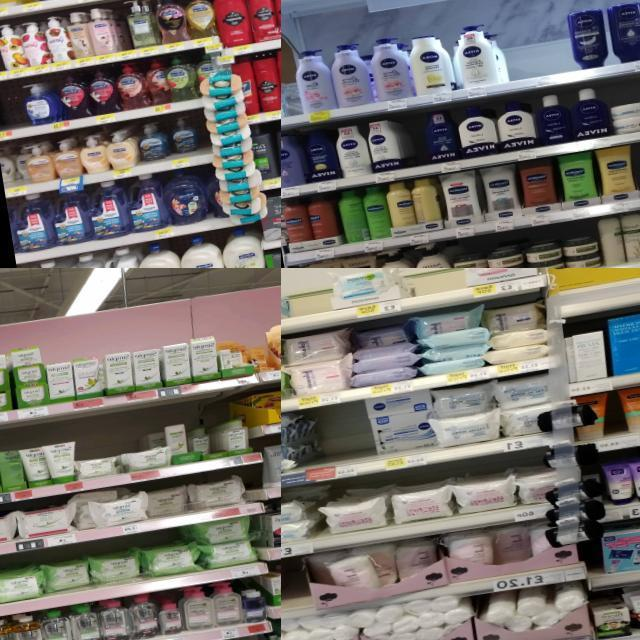empty: (502, 17, 575, 92), (311, 403, 374, 480), (411, 268, 466, 309), (289, 292, 333, 330), (281, 558, 307, 619), (0, 85, 26, 141), (22, 0, 38, 11)
